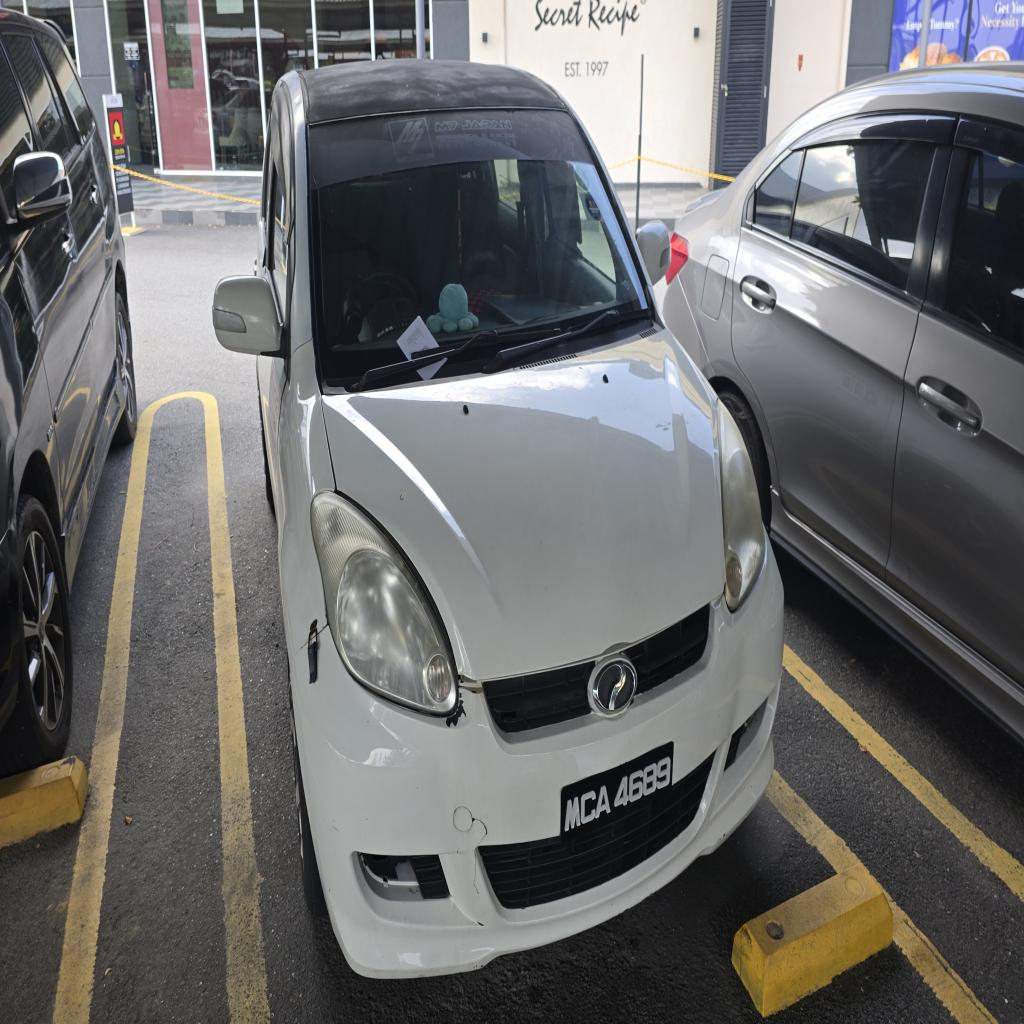car: (213, 62, 783, 976)
car plate: (562, 743, 673, 836)
